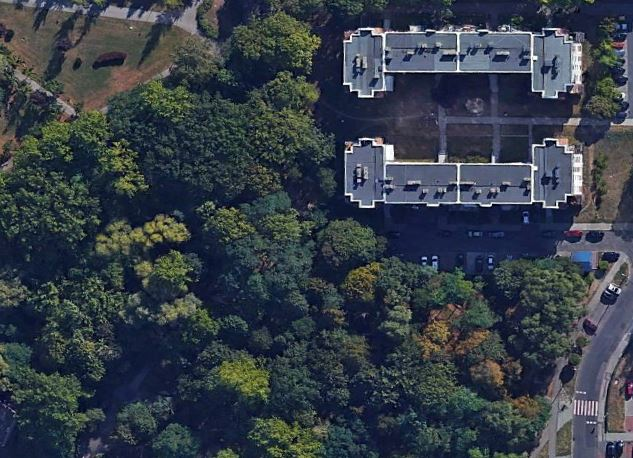block of flats: (341, 131, 593, 212), (339, 26, 588, 103)
